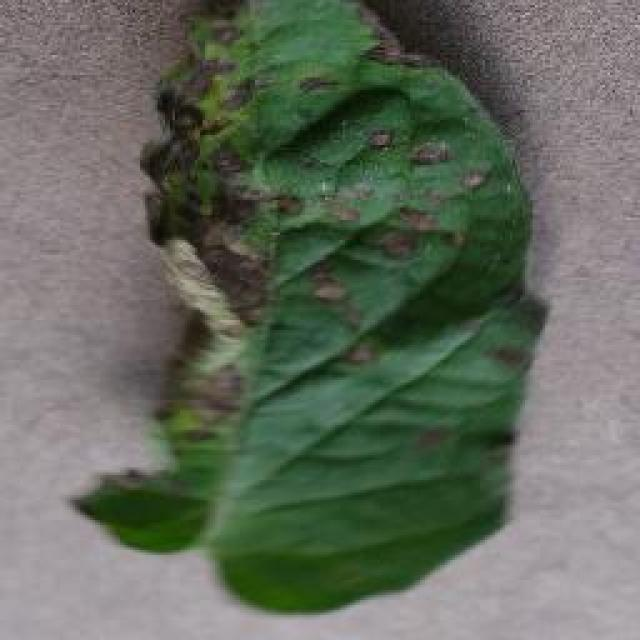Tomato Early blight leaf: (69, 2, 549, 616)
